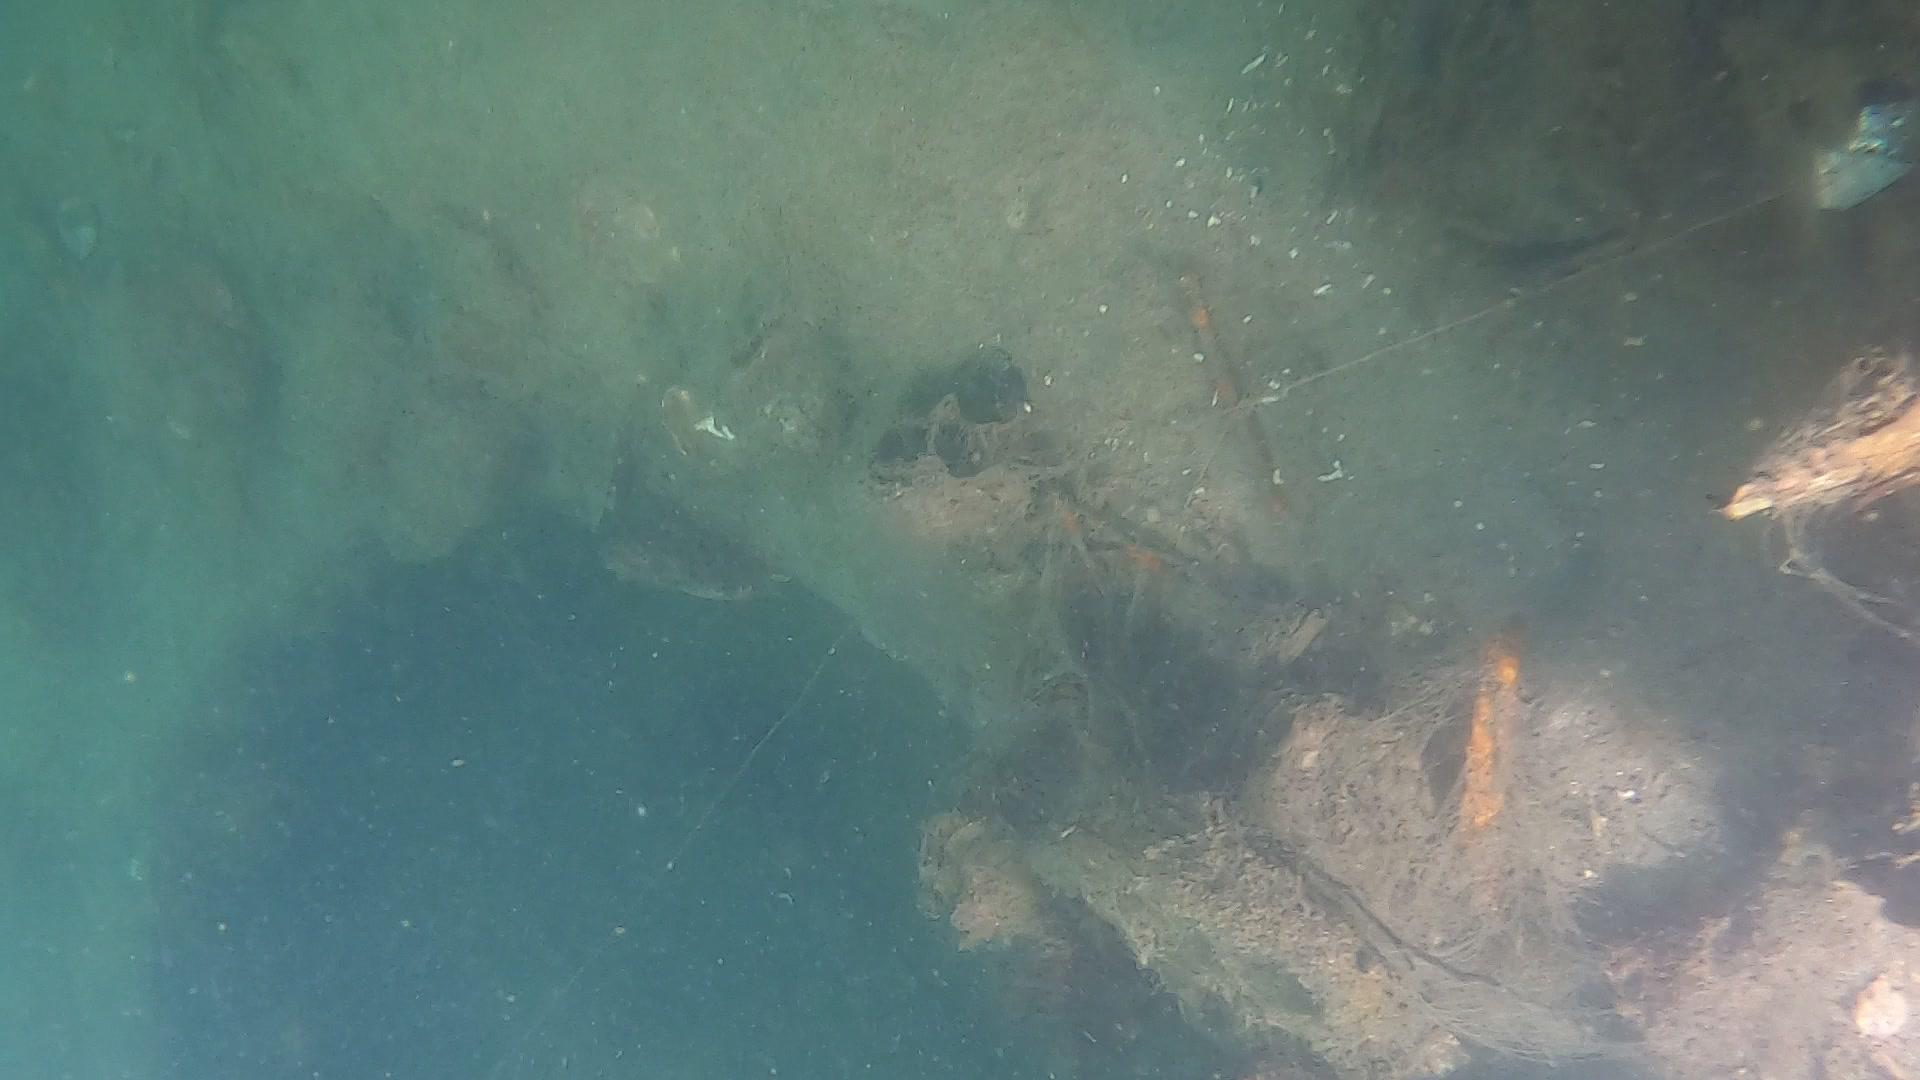tire: (0, 0, 1226, 1080)
